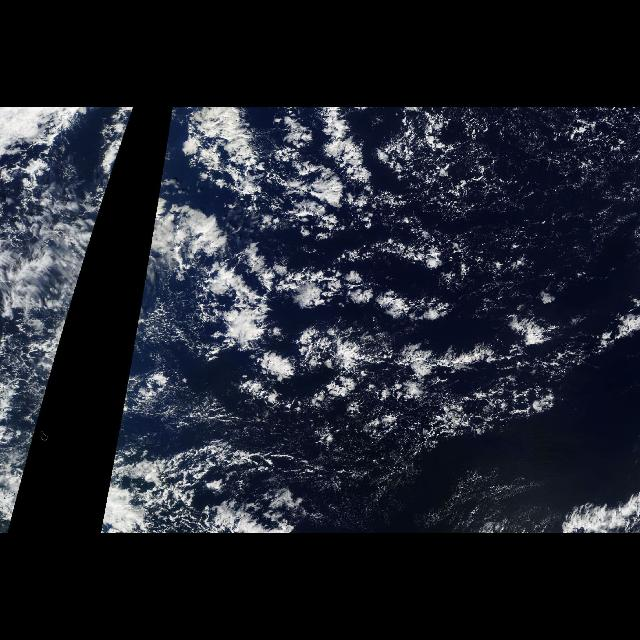Flower: (185, 113, 613, 439)
Gravel: (323, 108, 639, 482)
Sugar: (465, 114, 639, 292)
